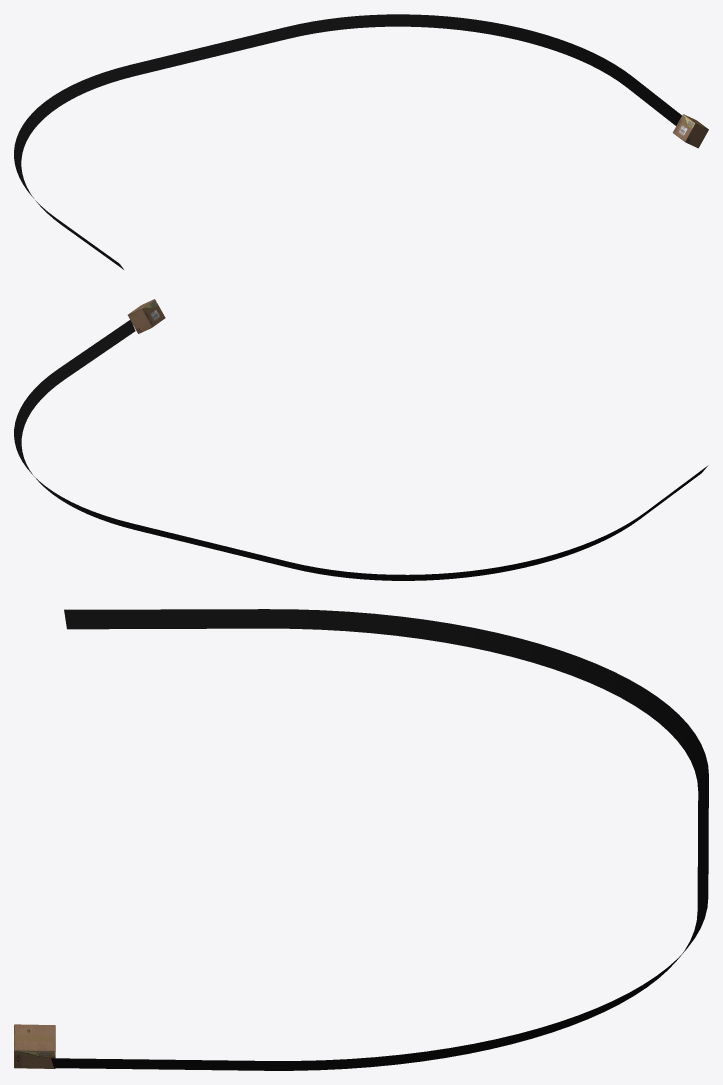
File: 4Niz.FBX
The picture shows the model from 3 angles, top to bottom: view 1: azimuth 30°, elevation 25°; view 2: azimuth 150°, elevation 25°; view 3: azimuth 270°, elevation 25°; orthographic projection. The views are drawn at different scales.
Parts seen in each view (by area): view 1: Line035, 290x170x190_025; view 2: Line035, 290x170x190_025; view 3: Line035, 290x170x190_025.
Part boxes in pixels (x1,y1,x2,y2): Line035: [14, 14, 681, 269]; 290x170x190_025: [672, 114, 708, 148]; Line035: [14, 320, 708, 580]; 290x170x190_025: [127, 299, 165, 333]; Line035: [51, 609, 708, 1070]; 290x170x190_025: [14, 1024, 55, 1068].
Bounding box in the file's own units: 9504 × 410 × 6178.
Materials: 2 (1 with a texture image).
